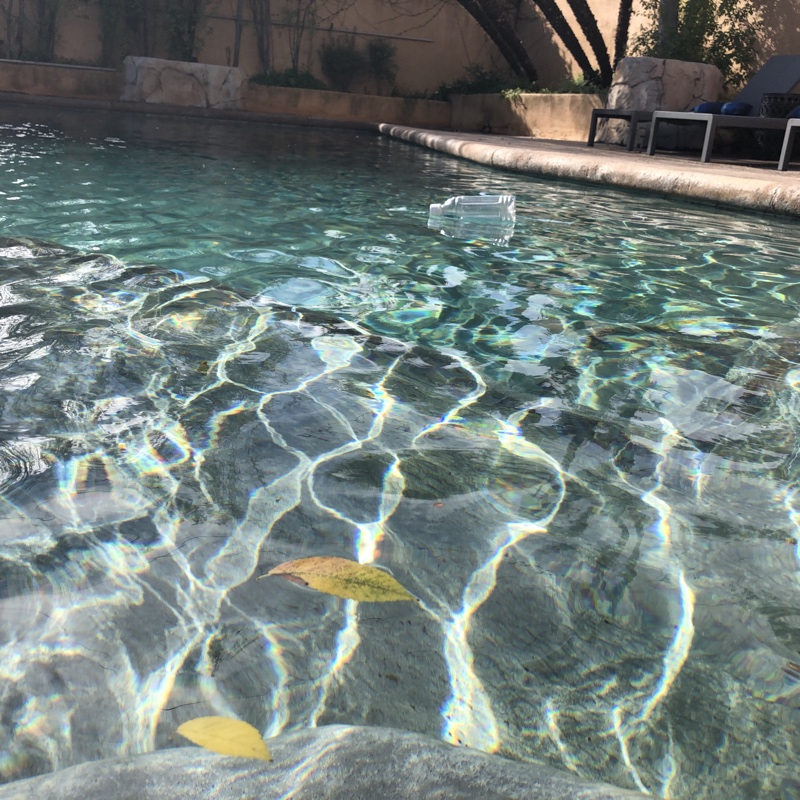Plastic Bottle: (425, 189, 520, 233)
